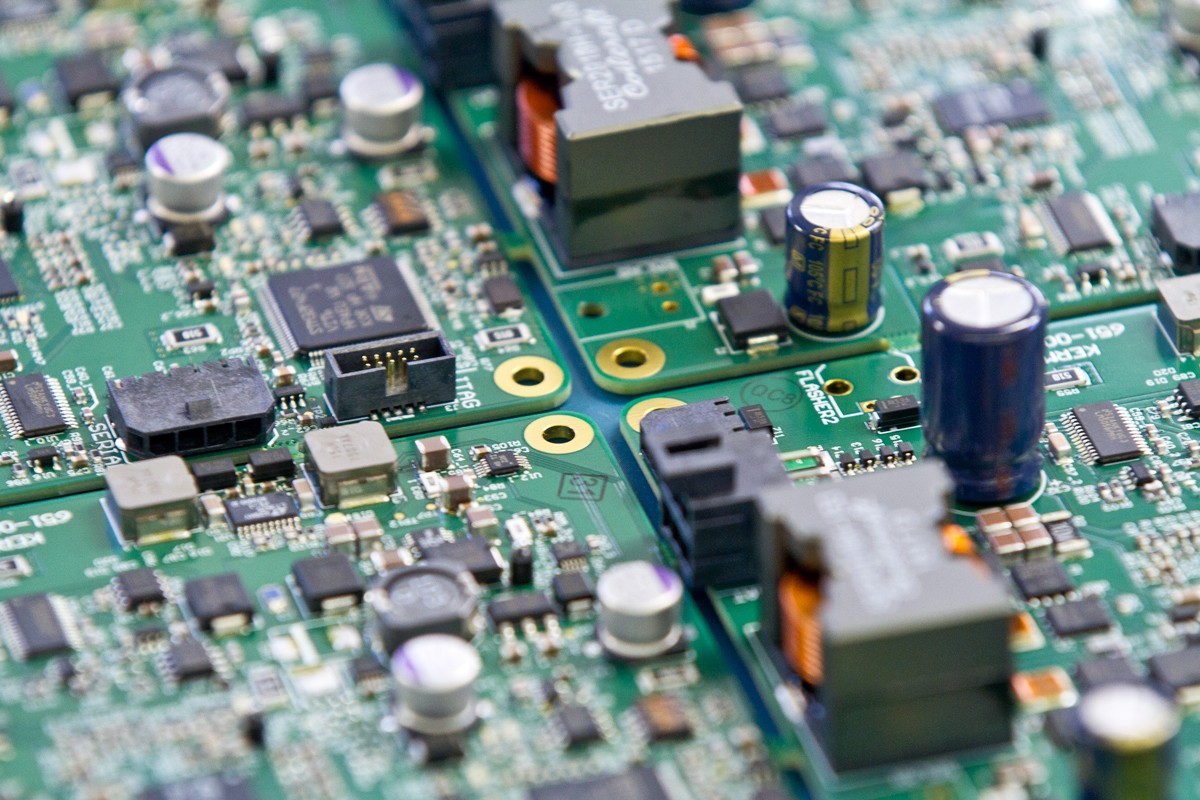capacitor: (906, 248, 1077, 498), (770, 166, 899, 349)
